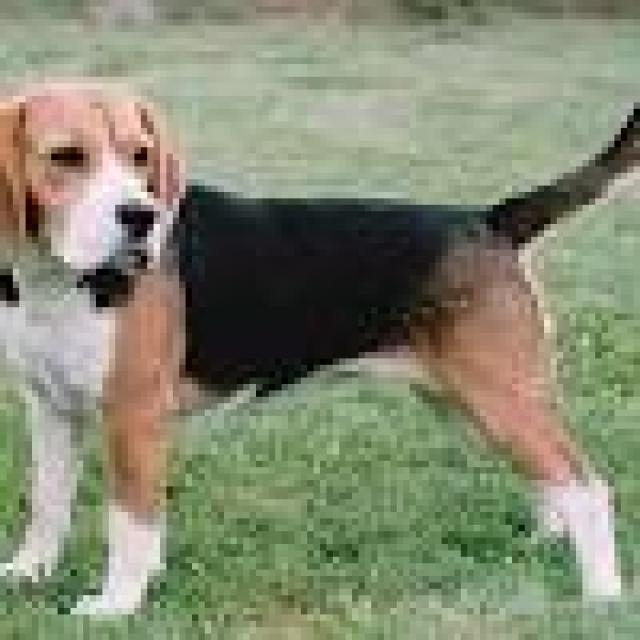Dog: (0, 58, 634, 620)
